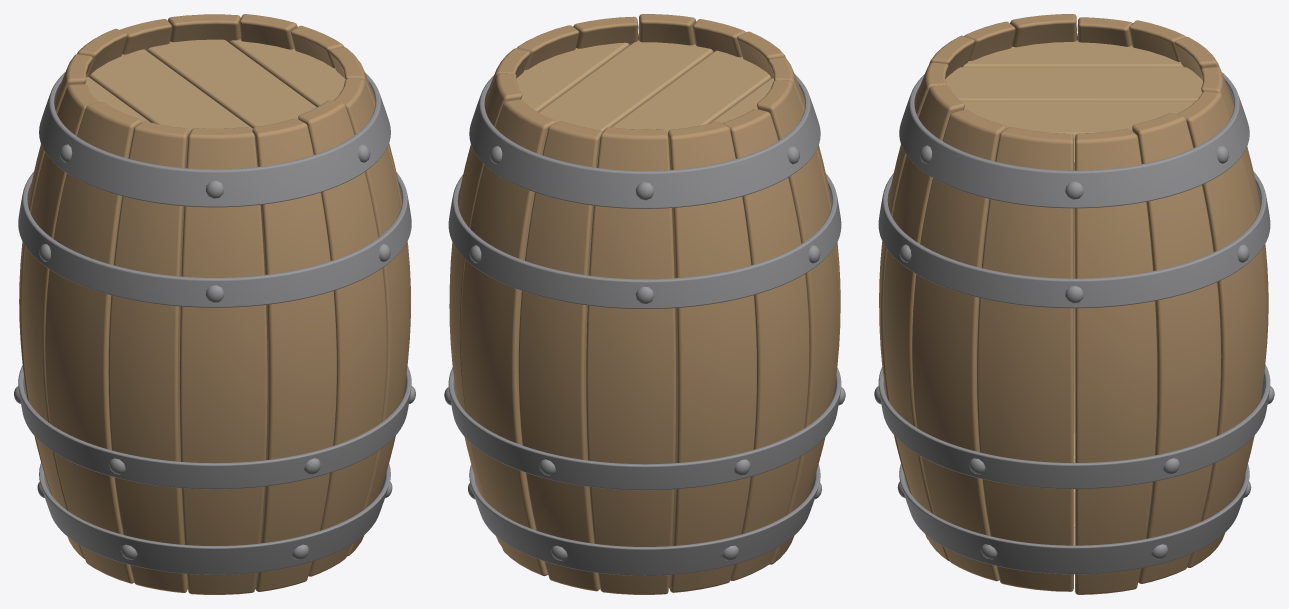
The model's file is barrel.glb.
3 renders of one model, left to right at view 1: azimuth 30°, elevation 25°; view 2: azimuth 150°, elevation 25°; view 3: azimuth 270°, elevation 25°, orthographic.
Visible parts, largest first — view 1: Staves, Hoops, Heads, Rivets; view 2: Staves, Hoops, Heads, Rivets; view 3: Staves, Hoops, Heads, Rivets.
Part boxes in pixels (<box>): Staves: <box>19,14,410,594</box>; Hoops: <box>18,72,411,574</box>; Heads: <box>85,39,345,133</box>; Rivets: <box>14,144,415,559</box>; Staves: <box>449,14,840,594</box>; Hoops: <box>448,33,841,575</box>; Heads: <box>516,40,773,135</box>; Rivets: <box>444,146,845,560</box>; Staves: <box>879,14,1268,594</box>; Hoops: <box>878,33,1270,574</box>; Heads: <box>945,40,1202,545</box>; Rivets: <box>874,145,1274,559</box>.
Size of the model in its own units: 0.6753 by 0.8549 by 0.6753.
